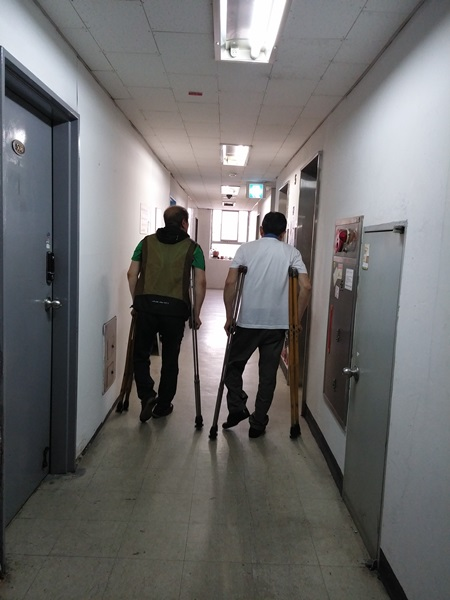crutches: (210, 212, 300, 445), (115, 206, 203, 429)
